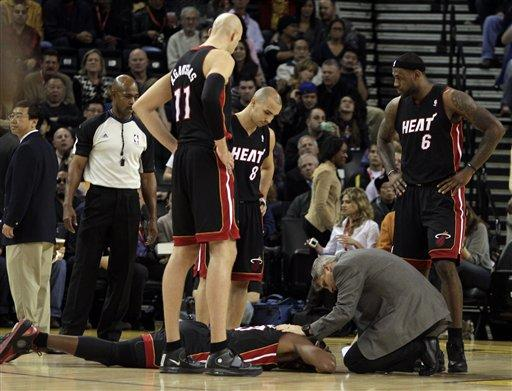bending: (302, 242, 451, 376)
down: (1, 313, 336, 382)
up: (131, 9, 257, 381), (374, 50, 509, 372), (64, 71, 157, 344), (1, 97, 62, 351), (224, 81, 280, 332)
